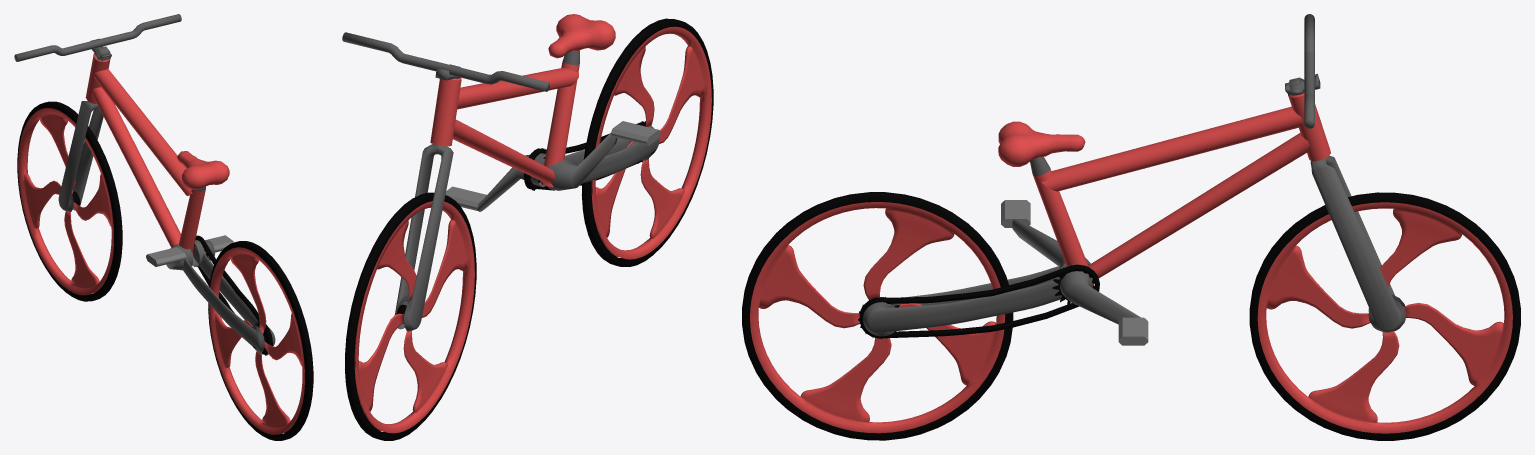
The model's file is Bike.fbx.
The picture shows the model from 3 angles, left to right: view 1: azimuth 30°, elevation 25°; view 2: azimuth 150°, elevation 25°; view 3: azimuth 270°, elevation 25°; orthographic projection. The views are drawn at different scales.
Visible parts, largest first — view 1: Body, Front Wheel, Back Wheel, Middle Pedal, Cube.002; view 2: Body, Front Wheel, Back Wheel, Middle Pedal, Cube.002, Right Pedal; view 3: Body, Front Wheel, Back Wheel, Middle Pedal, Right Pedal.
Part boxes in pixels (left/top/right/bottom): Body: left=14, top=14, right=275, bottom=355; Front Wheel: left=17, top=101, right=122, bottom=301; Back Wheel: left=208, top=241, right=313, bottom=440; Middle Pedal: left=166, top=236, right=214, bottom=270; Cube.002: left=146, top=247, right=186, bottom=266; Body: left=342, top=14, right=659, bottom=331; Front Wheel: left=345, top=192, right=476, bottom=440; Back Wheel: left=581, top=18, right=713, bottom=266; Middle Pedal: left=477, top=133, right=617, bottom=211; Cube.002: left=610, top=121, right=660, bottom=145; Right Pedal: left=445, top=186, right=486, bottom=211; Body: left=858, top=14, right=1405, bottom=339; Front Wheel: left=1249, top=192, right=1520, bottom=440; Back Wheel: left=742, top=192, right=1013, bottom=440; Middle Pedal: left=1012, top=219, right=1140, bottom=324; Right Pedal: left=1118, top=317, right=1148, bottom=345.
Bounding box in the file's own units: 234 × 384 × 727.
